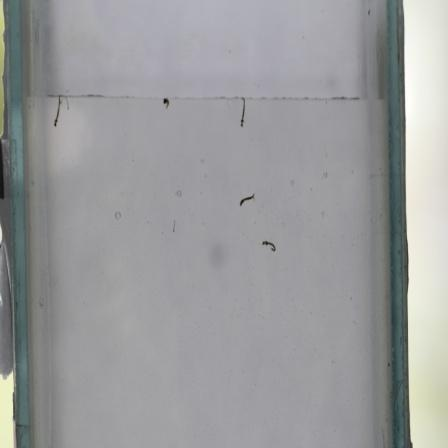Jentik-Nyamuk: (50, 95, 65, 128), (237, 94, 248, 130), (235, 191, 257, 208), (260, 237, 277, 255), (160, 95, 172, 112)
